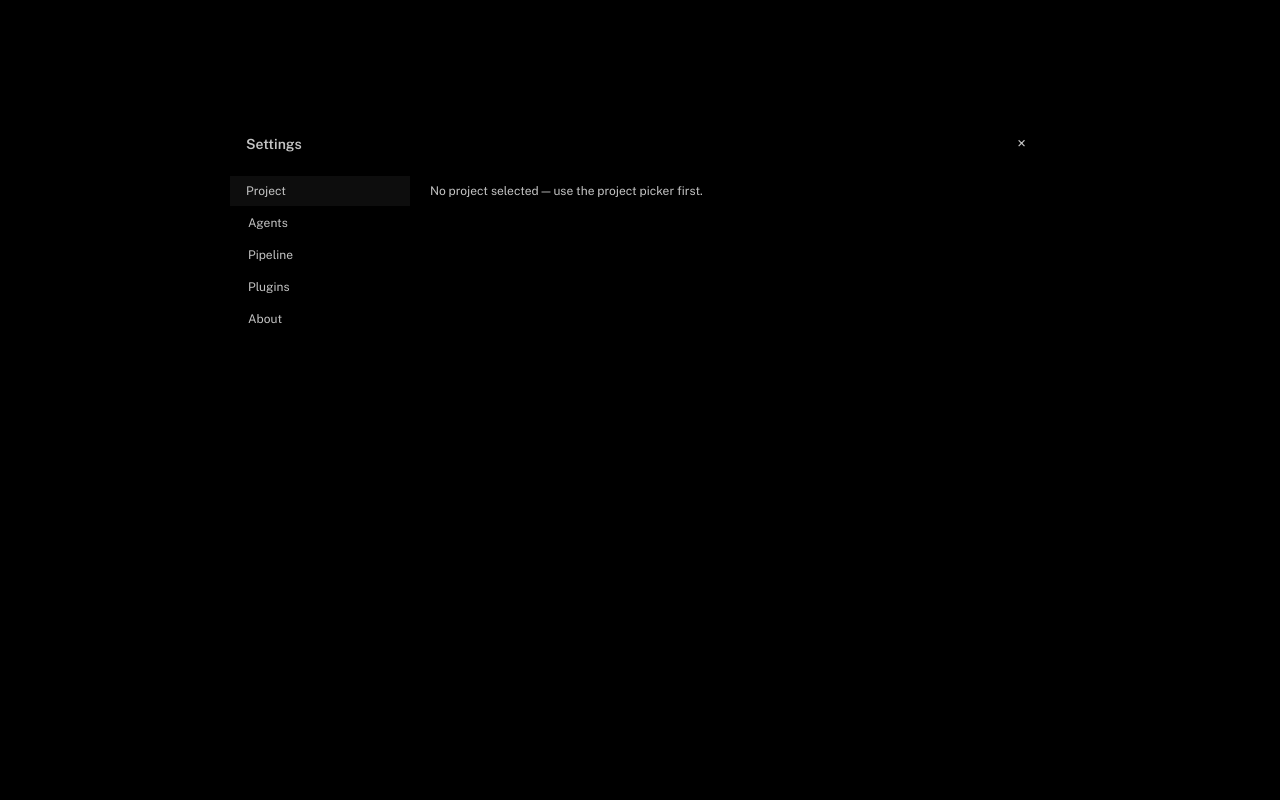
Test: SettingsModal › switches body content when a sidebar item is clicked
The width and height of the screenshot is (1280, 800).
Expected: the element with test id "settings-panel-project" is shown, [430,184,703,198]
Click the tab with test id "settings-category-pipeline" at (320, 255), box [230,240,410,270]
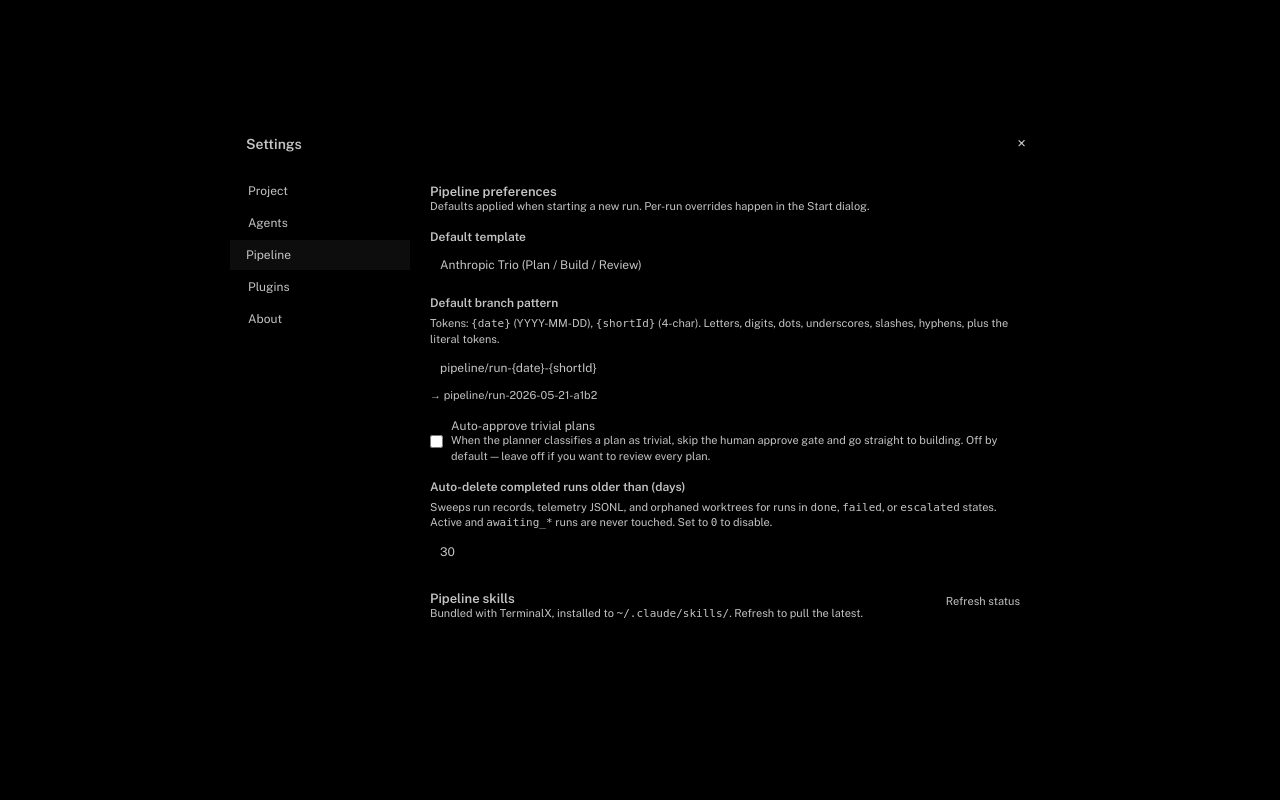
Now the element with test id "settings-panel-pipeline" is shown, box [430,184,1030,621]
